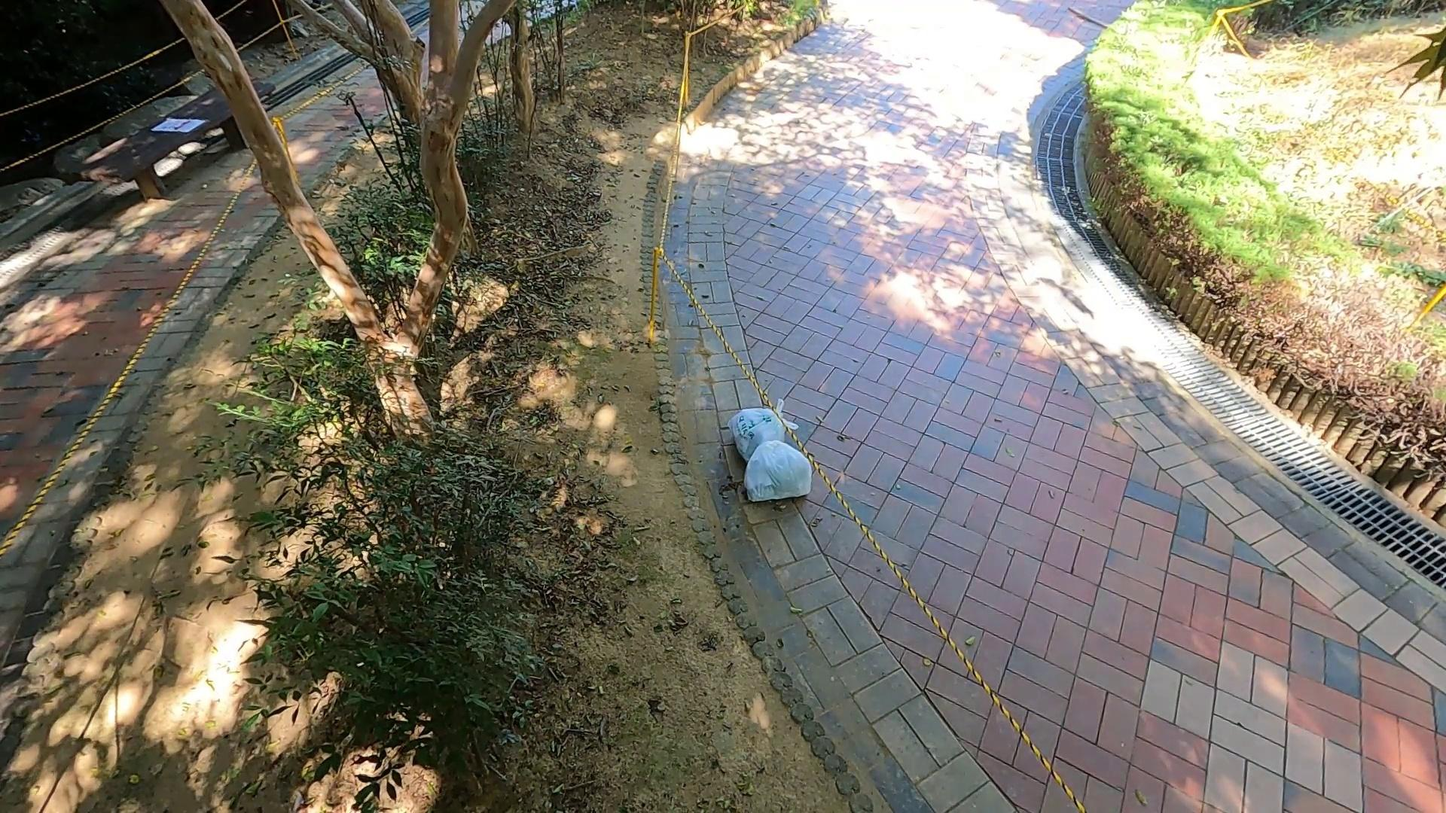trash: (732, 395, 806, 473), (746, 433, 817, 504)
